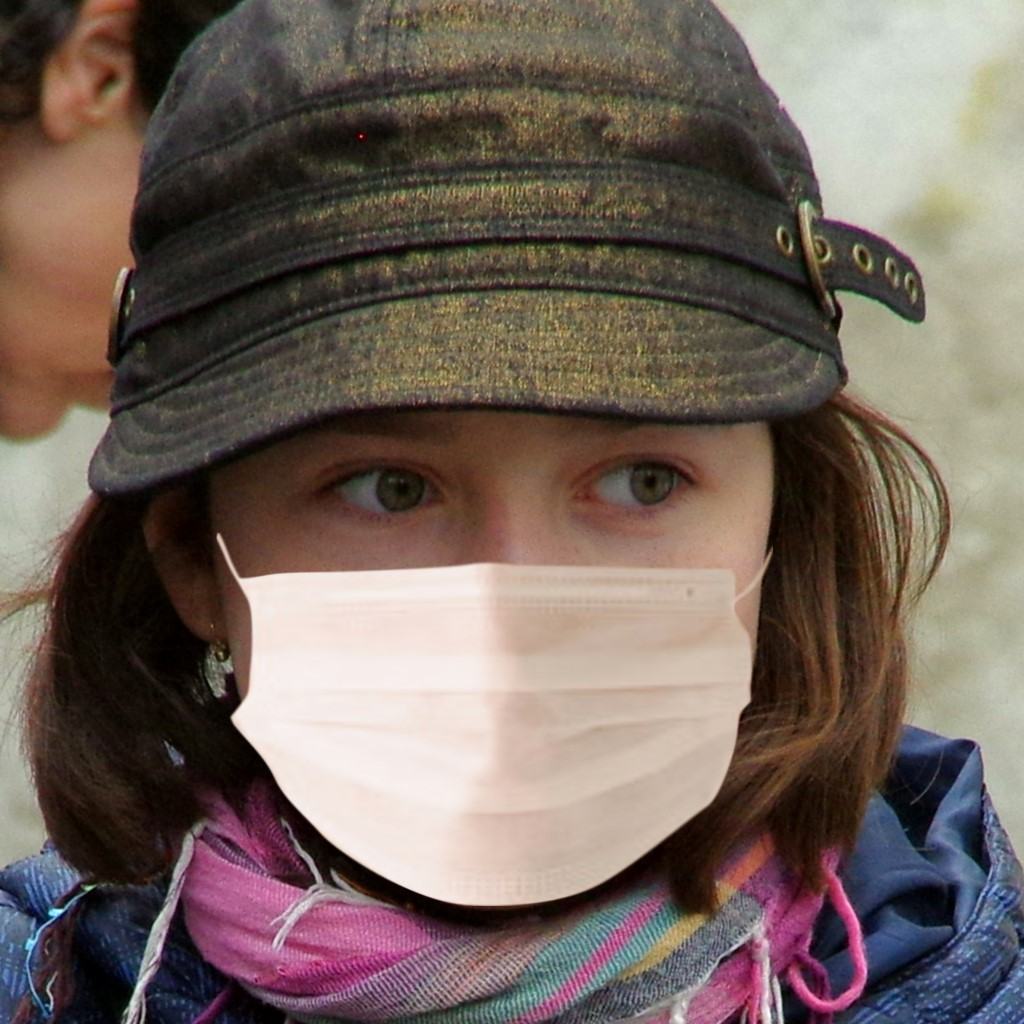con_mascara: (182, 274, 773, 923)
